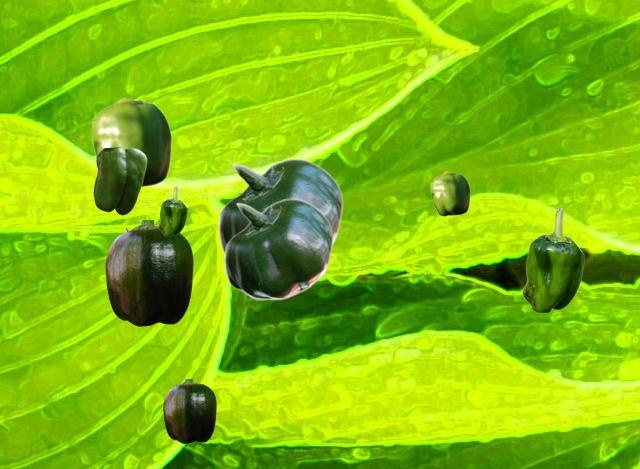bell_pepper: (217, 158, 342, 254), (223, 198, 332, 299), (105, 220, 192, 325), (91, 97, 171, 187), (522, 207, 583, 312), (93, 146, 146, 214), (163, 379, 215, 442), (430, 171, 469, 215), (158, 186, 186, 235)
